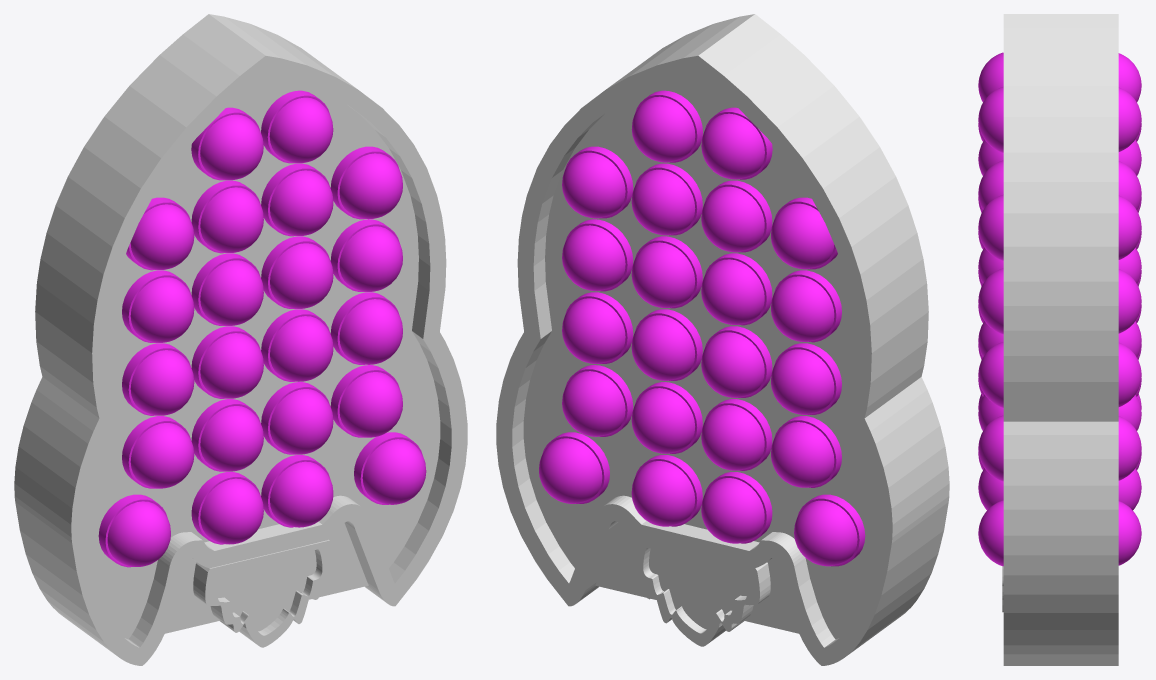
The picture shows the model from 3 angles, left to right: view 1: azimuth 30°, elevation 25°; view 2: azimuth 150°, elevation 25°; view 3: azimuth 270°, elevation 25°; orthographic projection.
Parts seen in each view (by area): view 1: Extrude.007, External8, Sphere.701, Sphere.719, Sphere.710, Sphere.721, Sphere.706, Sphere.704, Sphere.715, Sphere.722, Sphere.708, Sphere.714 (+33 smaller); view 2: Extrude.007, External8, Sphere.684, Sphere.686, Sphere.690, Sphere.687, Sphere.694, Sphere.679, Sphere.700, Sphere.681, Sphere.688, Sphere.692 (+32 smaller); view 3: Extrude.007, Sphere.716, Sphere.720, Sphere.704, Sphere.712, Sphere.702, Sphere.708, Sphere.694, Sphere.698, Sphere.680, Sphere.682, Sphere.690 (+15 smaller).
Part boxes in pixels (<box>): Extrude.007: <box>14,14,467,665</box>; External8: <box>193,539,334,647</box>; Sphere.701: <box>200,114,263,180</box>; Sphere.719: <box>270,461,333,527</box>; Sphere.710: <box>200,260,263,325</box>; Sphere.721: <box>107,501,170,566</box>; Sphere.706: <box>200,187,263,252</box>; Sphere.704: <box>339,153,402,219</box>; Sphere.715: <box>270,389,333,454</box>; Sphere.722: <box>200,478,263,544</box>; Sphere.708: <box>339,226,402,291</box>; Sphere.714: <box>200,333,263,398</box>; Extrude.007: <box>496,14,949,665</box>; External8: <box>630,539,770,646</box>; Sphere.684: <box>701,186,764,252</box>; Sphere.686: <box>562,225,625,291</box>; Sphere.690: <box>562,298,625,363</box>; Sphere.687: <box>771,276,834,341</box>; Sphere.694: <box>562,371,625,436</box>; Sphere.679: <box>701,113,764,179</box>; Sphere.700: <box>701,478,764,543</box>; Sphere.681: <box>631,169,695,235</box>; Sphere.688: <box>701,259,764,324</box>; Sphere.692: <box>701,332,764,397</box>; Extrude.007: <box>1003,14,1118,665</box>; Sphere.716: <box>978,415,1003,481</box>; Sphere.720: <box>978,500,1003,566</box>; Sphere.704: <box>978,194,1003,260</box>; Sphere.712: <box>978,342,1003,407</box>; Sphere.702: <box>978,87,1003,152</box>; Sphere.708: <box>978,268,1003,334</box>; Sphere.694: <box>1118,416,1141,480</box>; Sphere.698: <box>1118,501,1141,565</box>; Sphere.680: <box>1118,87,1141,151</box>; Sphere.682: <box>1118,195,1141,259</box>; Sphere.690: <box>1118,342,1141,406</box>.
Size of the model in its own units: 17.08 by 24.33 by 6.04.
